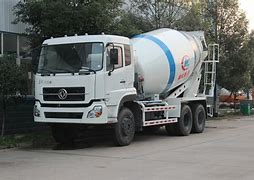specialcar: (32, 19, 224, 145)
